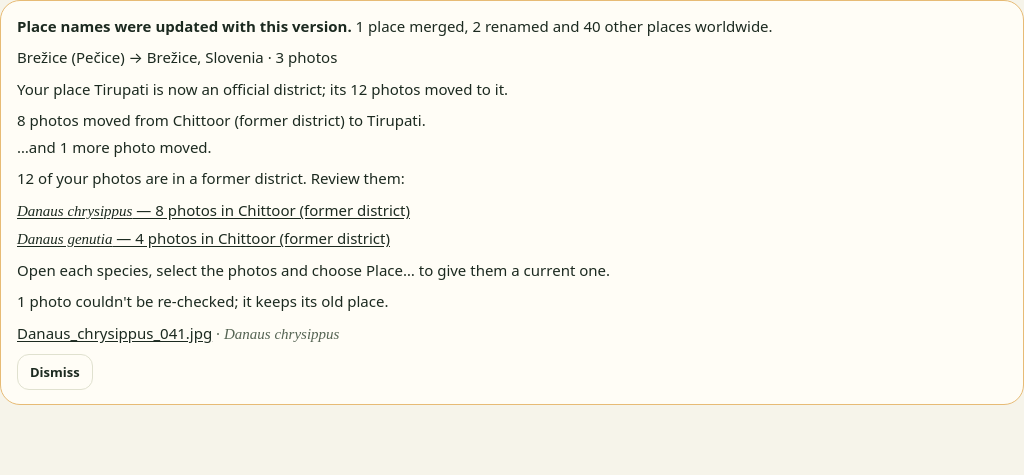
Test: a Dismiss that fails keeps the card and says why
Click the button "Dismiss": (55, 372) [17,354,93,390]
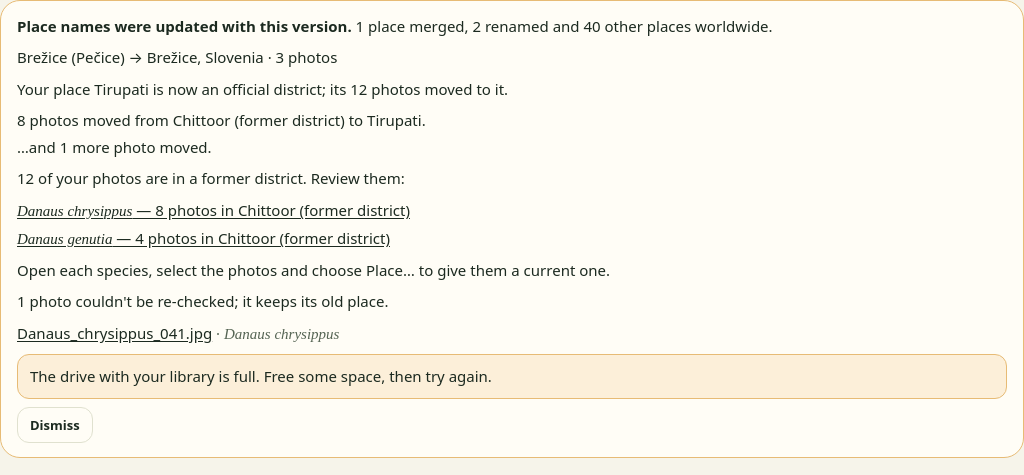
expect the message reads "The drive with your library is full. Free some space, then try again.": met, box [30,366,492,386]
